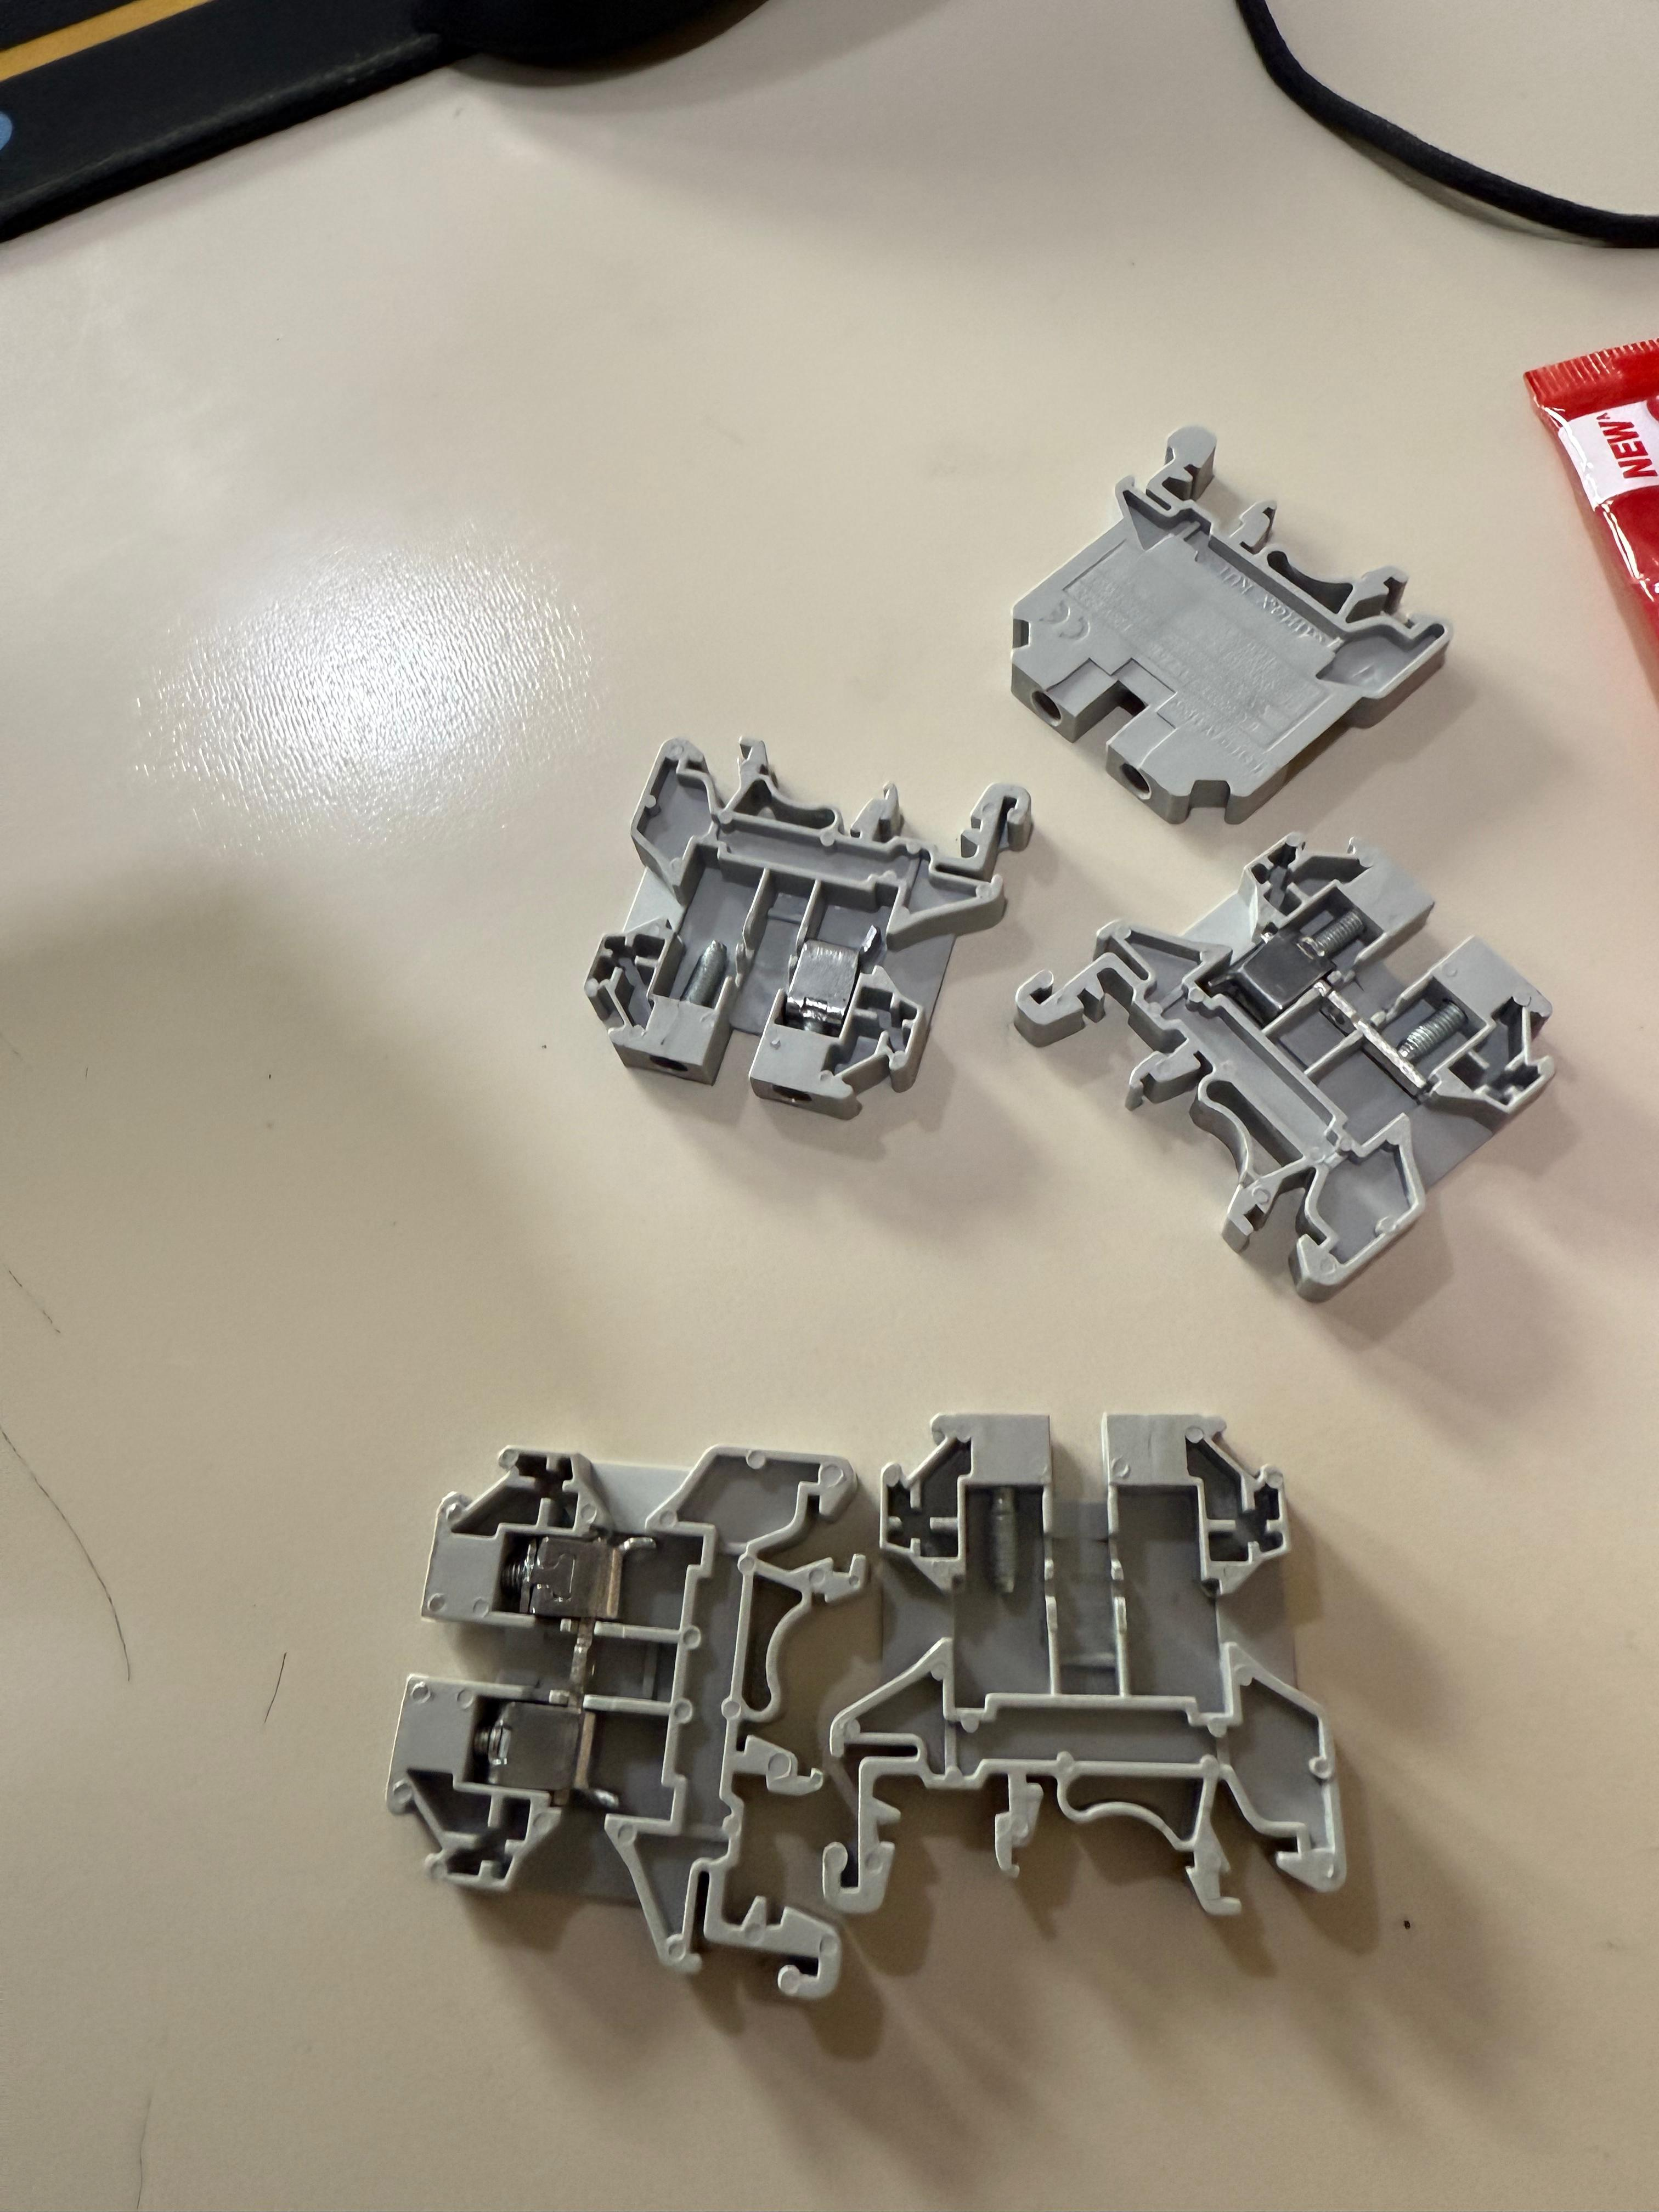Inverted: (1012, 418, 1457, 817)
Pass: (385, 1413, 849, 2027)
Reject: (852, 1413, 1384, 1904), (1023, 834, 1565, 1289), (587, 723, 1028, 1123)
